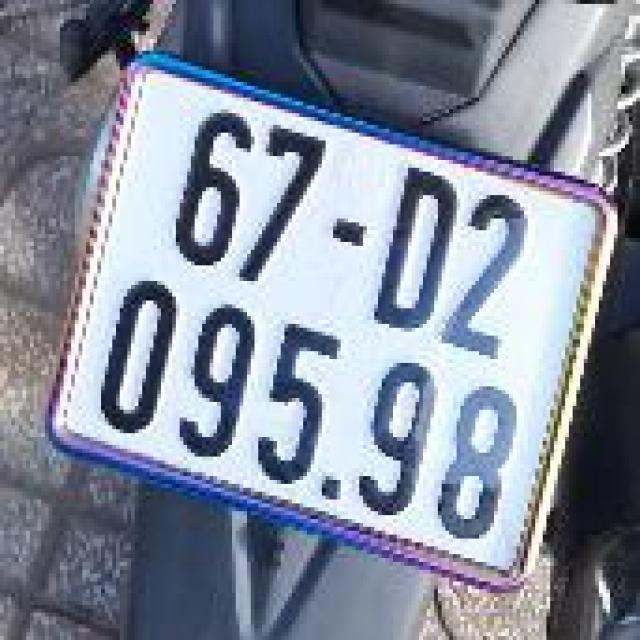0: (87, 273, 191, 445)
2: (434, 179, 546, 371)
5: (245, 310, 356, 491)
6: (165, 103, 264, 278)
7: (225, 117, 341, 300)
8: (424, 371, 538, 553)
9: (342, 353, 453, 529), (164, 293, 273, 468)
D: (366, 156, 473, 342)
